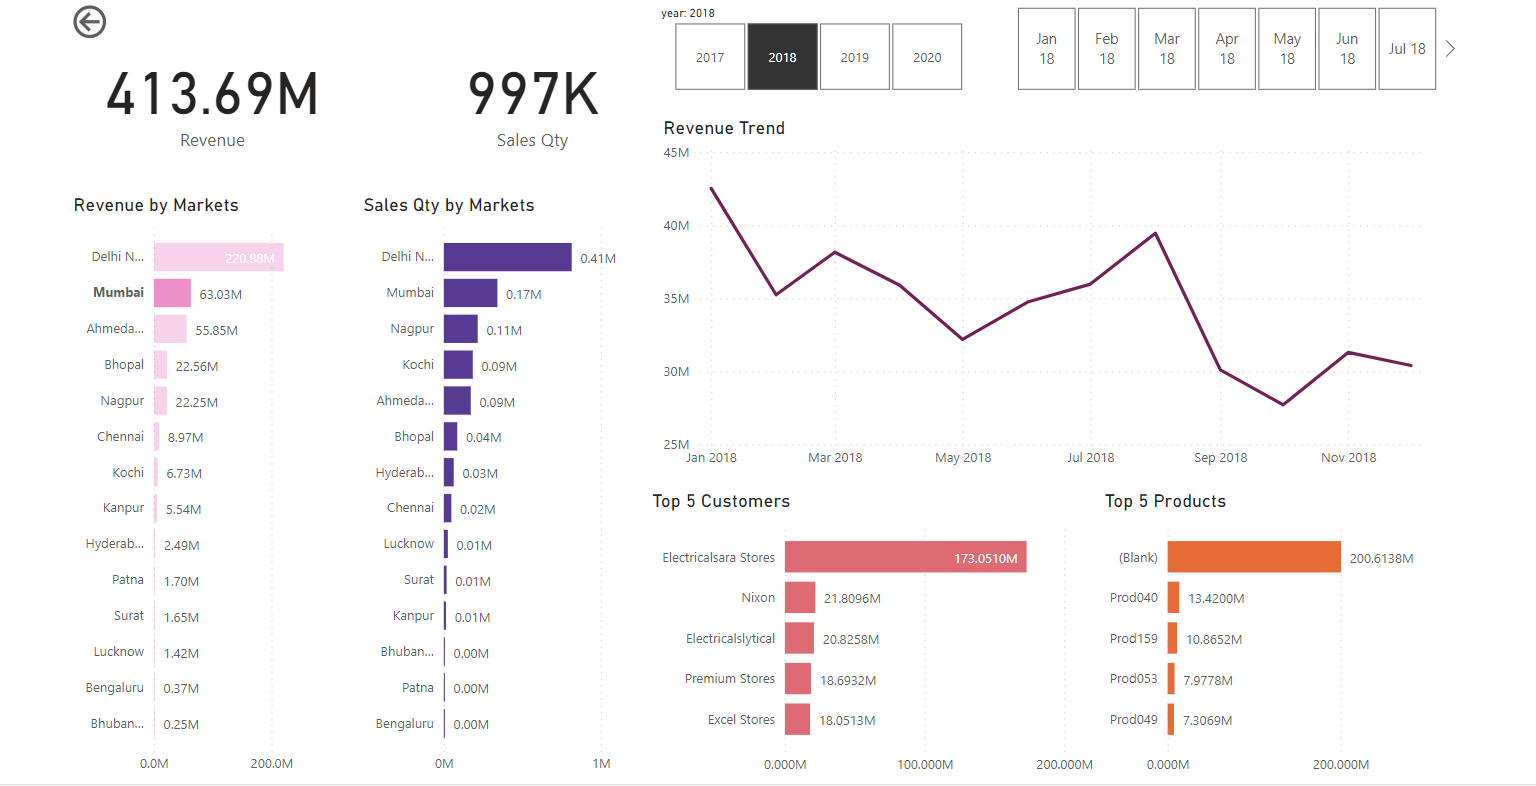

The dashboard page shown, as its layout file describes it:
{"tool":"powerbi","page":{"name":"Page 1","canvas":[1280,720],"ordinal":0},"visuals":[{"type":"card","fields":{"Values":["Base Measure.Revenue"]},"box":[0,0,266,178.2],"z":0},{"type":"card","fields":{"Values":["Base Measure.Sales Qty"]},"box":[266,0,320.8,178.2],"z":1000},{"type":"actionButton","box":[0,0,100,40],"z":2000},{"type":"barChart","title":"Revenue by Markets","fields":{"Y":["Base Measure.Revenue"],"Category":["sales markets.markets_name"]},"box":[0,178.2,266,541.6],"z":3000},{"type":"barChart","title":"Sales Qty by Markets","fields":{"Y":["Base Measure.Sales Qty"],"Category":["sales markets.markets_name"]},"box":[266,178.2,266,541.6],"z":4000},{"type":"slicer","fields":{"Values":["sales date.year"]},"box":[532,0,314,89.1],"z":5000},{"type":"slicer","fields":{"Values":["sales date.cy_date"]},"box":[845.9,0,434.6,89.1],"z":6000},{"type":"barChart","title":"Top 5 Customers","fields":{"Y":["Base Measure.Revenue"],"Category":["sales customers.custmer_name"]},"box":[532,449.7,415.4,270.1],"z":7000},{"type":"barChart","title":"Top 5 Products","fields":{"Y":["Base Measure.Revenue"],"Category":["sales products.product_code"]},"box":[947.4,449.7,333.2,270.1],"z":8000},{"type":"lineChart","title":"Revenue Trend","fields":{"Y":["Base Measure.Revenue"],"Category":["sales date.cy_date.Variation.Date Hierarchy.Year","sales date.cy_date.Variation.Date Hierarchy.Quarter","sales date.cy_date.Variation.Date Hierarchy.Month","sales date.cy_date.Variation.Date Hierarchy.Day"]},"box":[541.6,106.9,722.5,331.8],"z":9000}]}

Visuals, with their boxes on the page's 1280x720 design canvas (x1, y1, x2, y2). These are canvas units, not pixel positions in the 1536x786 screenshot, which may show the page scaled, cropped or inside an application window:
card - Base Measure.Revenue: x1=0 y1=0 x2=266 y2=178
card - Base Measure.Sales Qty: x1=266 y1=0 x2=587 y2=178
actionButton: x1=0 y1=0 x2=100 y2=40
"Revenue by Markets" barChart: x1=0 y1=178 x2=266 y2=720
"Sales Qty by Markets" barChart: x1=266 y1=178 x2=532 y2=720
slicer - sales date.year: x1=532 y1=0 x2=846 y2=89
slicer - sales date.cy_date: x1=846 y1=0 x2=1280 y2=89
"Top 5 Customers" barChart: x1=532 y1=450 x2=947 y2=720
"Top 5 Products" barChart: x1=947 y1=450 x2=1281 y2=720
"Revenue Trend" lineChart: x1=542 y1=107 x2=1264 y2=439
